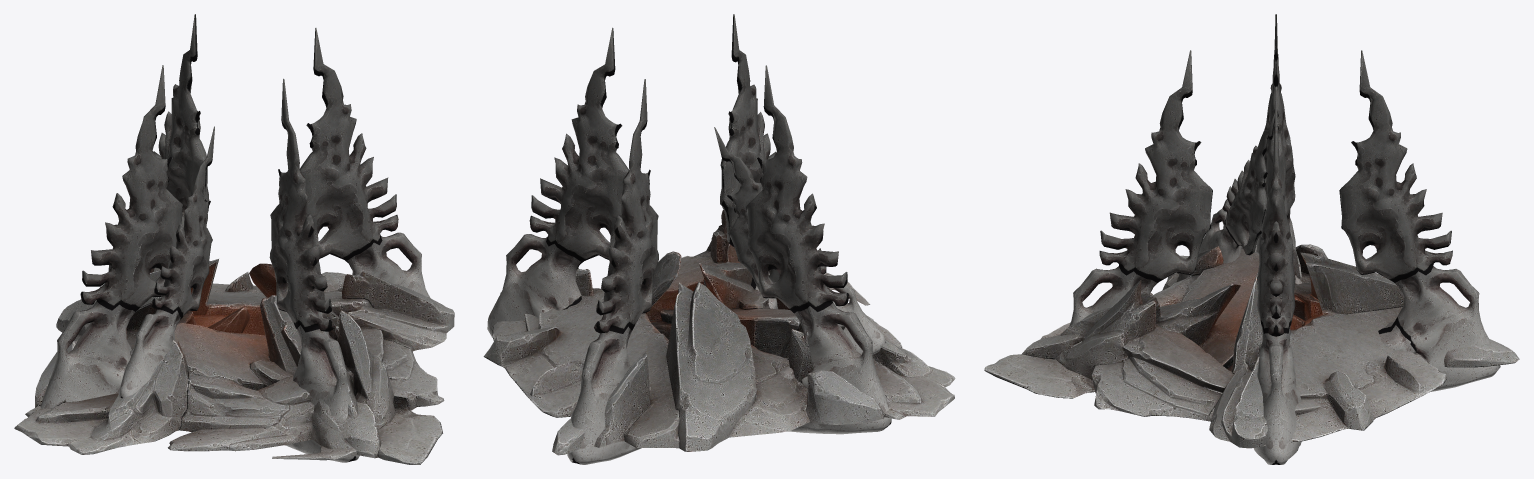
Rendered from Dire_Ancient.fbx.
3 views of the same model, side by side, from view 1: azimuth 30°, elevation 25°; view 2: azimuth 150°, elevation 25°; view 3: azimuth 270°, elevation 25° (orthographic). The views are drawn at different scales.
Parts seen in each view (by area): view 1: dire_ancient; view 2: dire_ancient; view 3: dire_ancient.
Boxes of the visible parts, bbox=[...] form: dire_ancient: bbox=[14, 14, 454, 464]; dire_ancient: bbox=[483, 14, 955, 464]; dire_ancient: bbox=[984, 14, 1519, 464].
Bounding box in the file's own units: 780 × 612 × 857.
